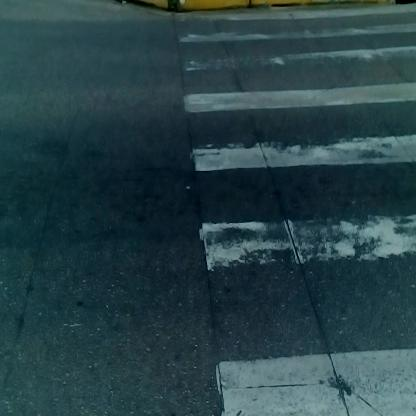crosswalk: (170, 16, 416, 416)
